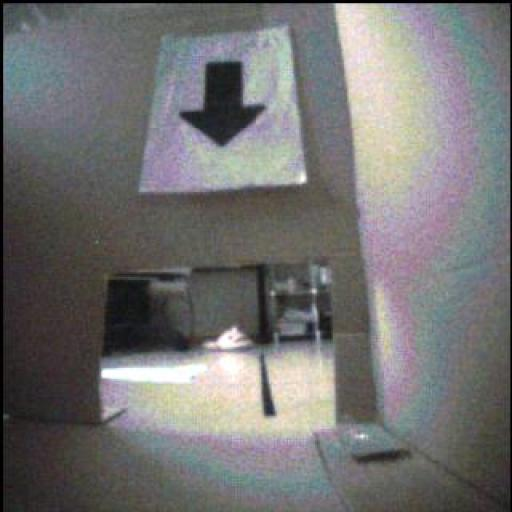arrow: (180, 64, 265, 147)
